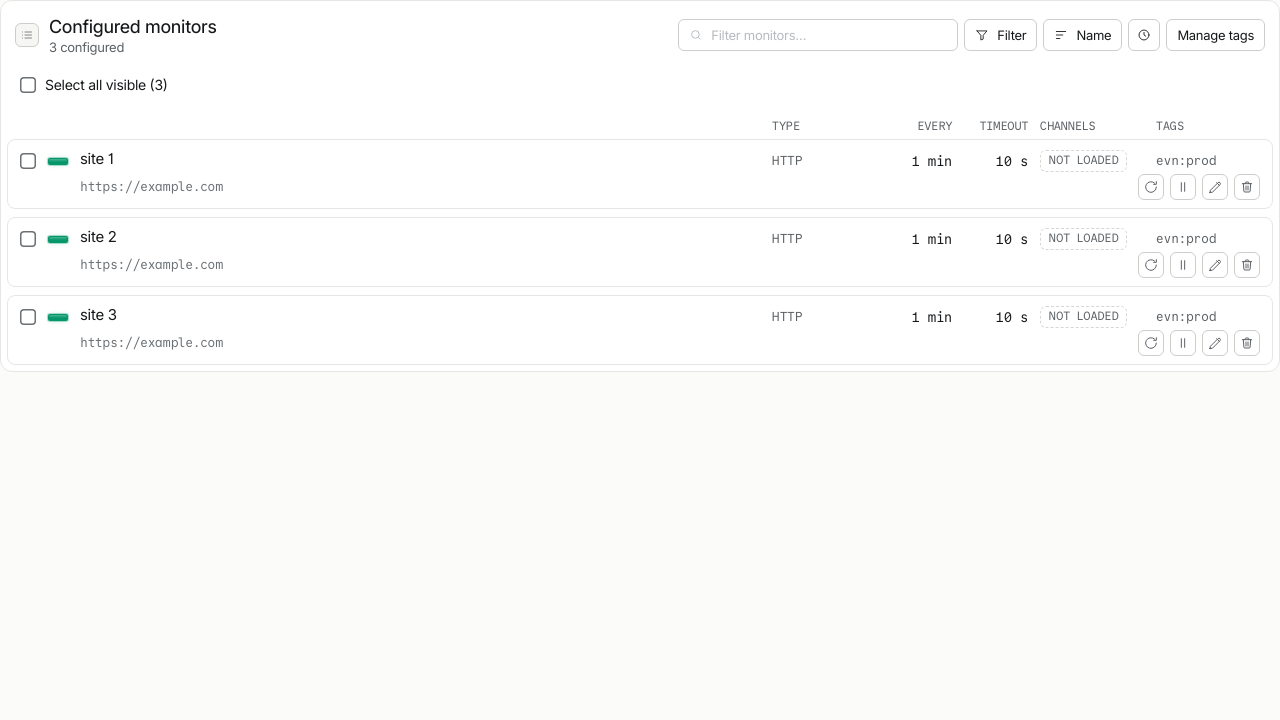
Test: selects multiple monitors, previews once and atomically applies with a paired validator
Click the checkbox named "Select site 1".
click(28, 161)  # box [15,148,41,174]
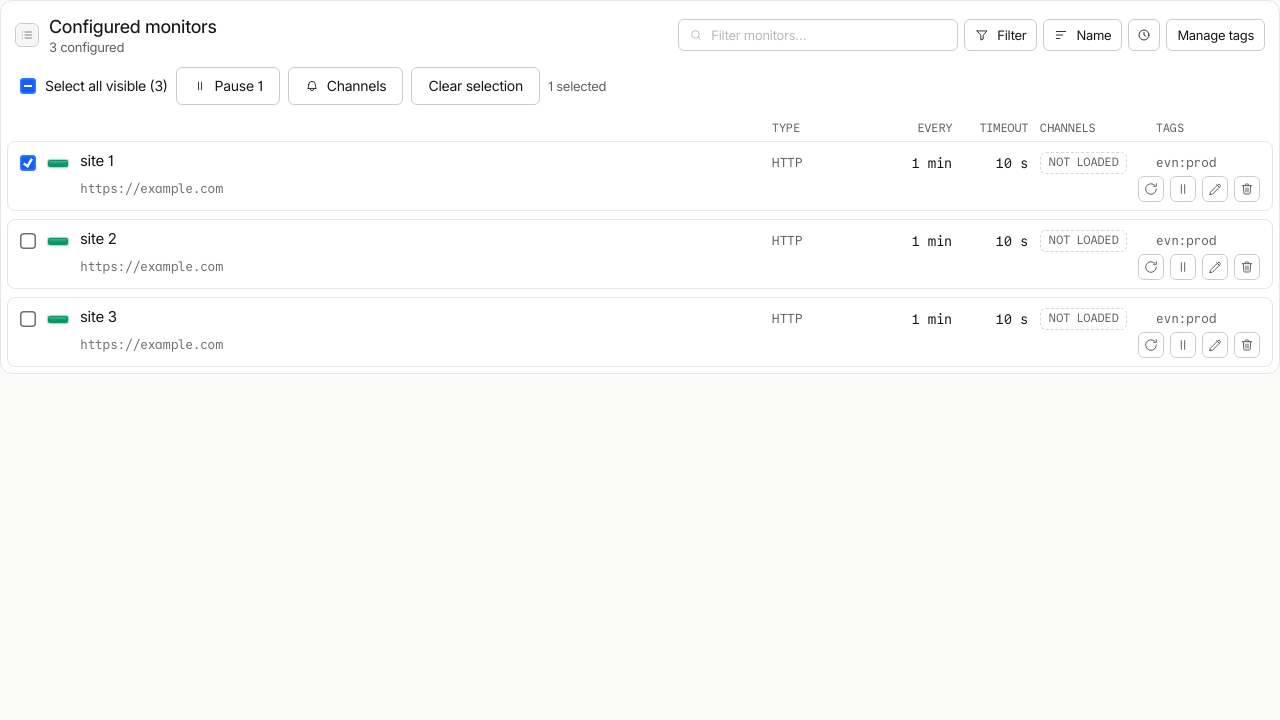
Click the checkbox named "Select site 2".
click(28, 241)  # box [15,228,41,254]
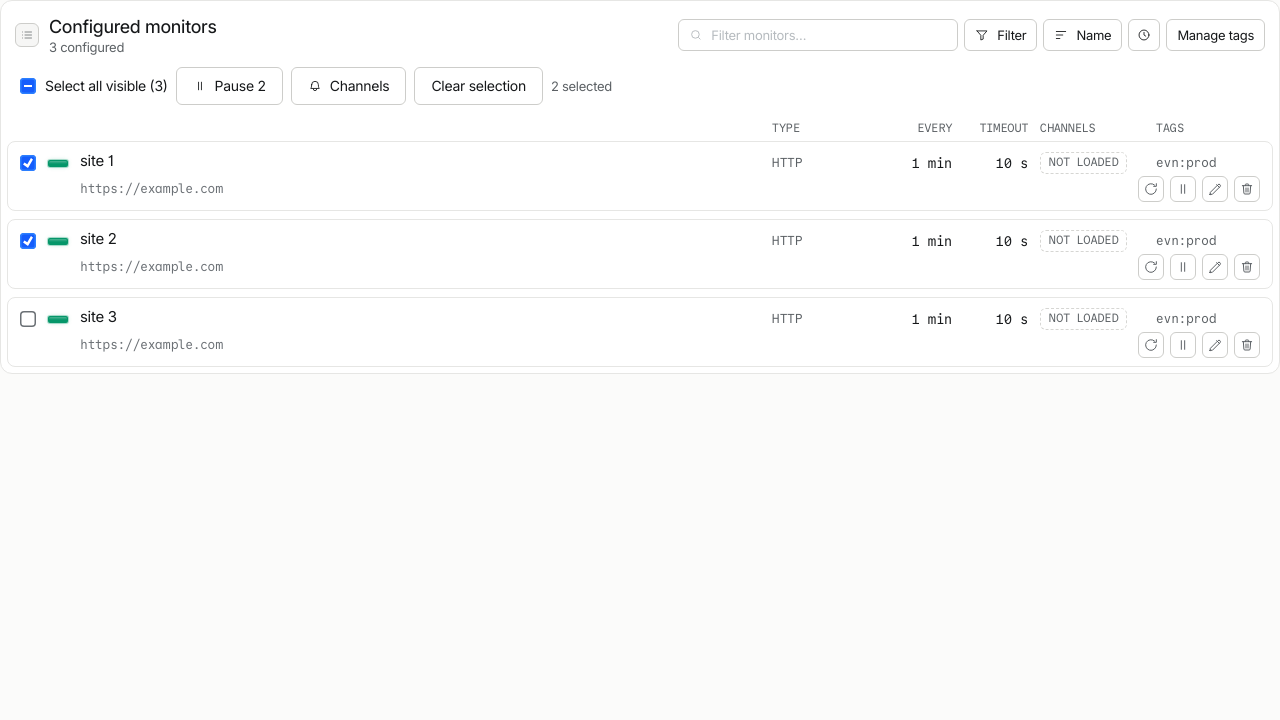
Expected: the text "2 selected" is shown, [551,78,612,94]
Type "site 3" into the search field labelled "Filter monitors".
click(829, 35); type("site 3")  # box [711,27,947,43]
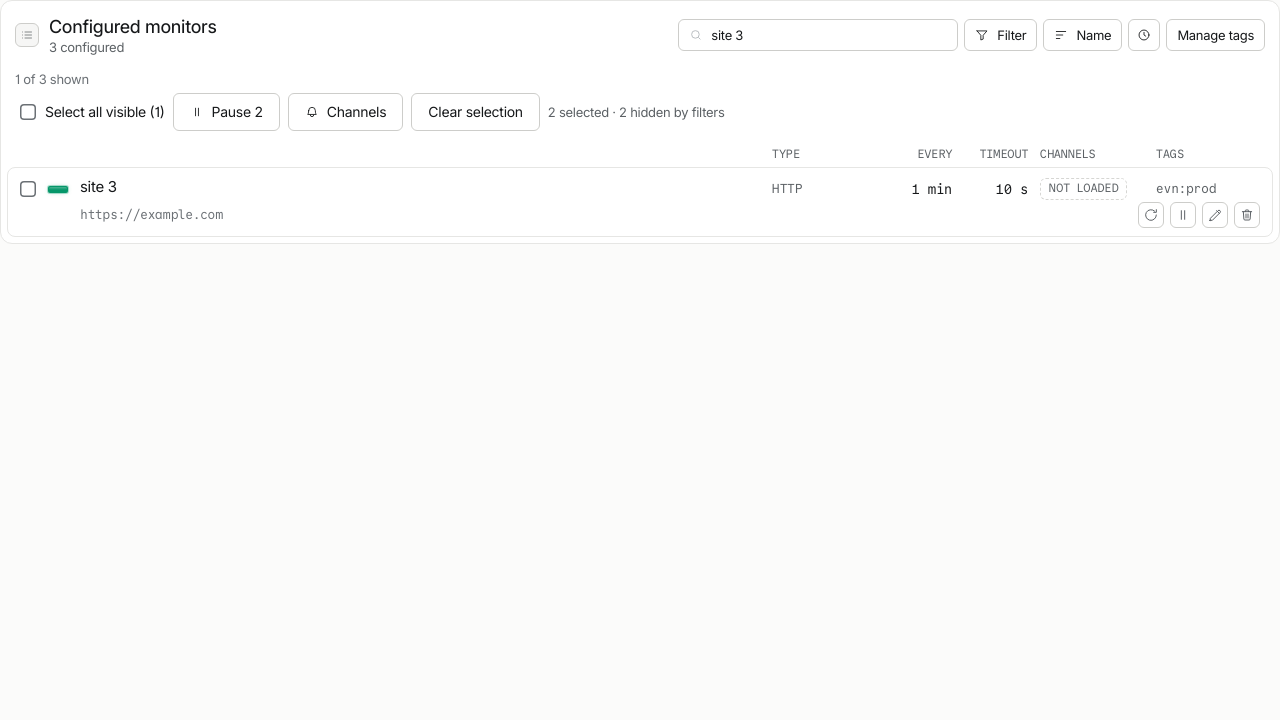
Expected: the text "2 selected · 2 hidden by filters" is shown, [548,104,724,120]
Click the button "Manage tags".
click(1216, 35)  # box [1166,19,1265,51]
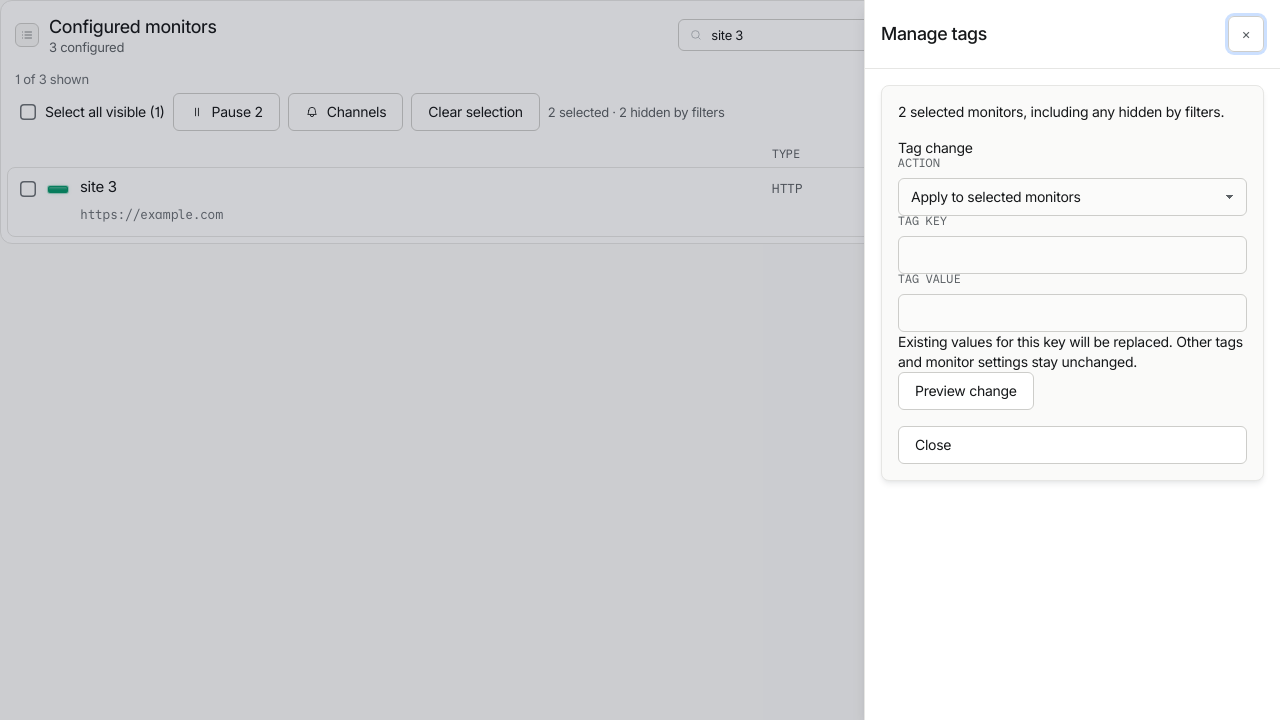
Type "env" into the field labelled "Tag key".
click(1072, 255); type("env")  # box [898,236,1247,274]
Type "prod" into the field labelled "Tag value".
click(1072, 313); type("prod")  # box [898,294,1247,332]
Click the button "Preview change".
click(966, 391)  # box [898,372,1034,410]
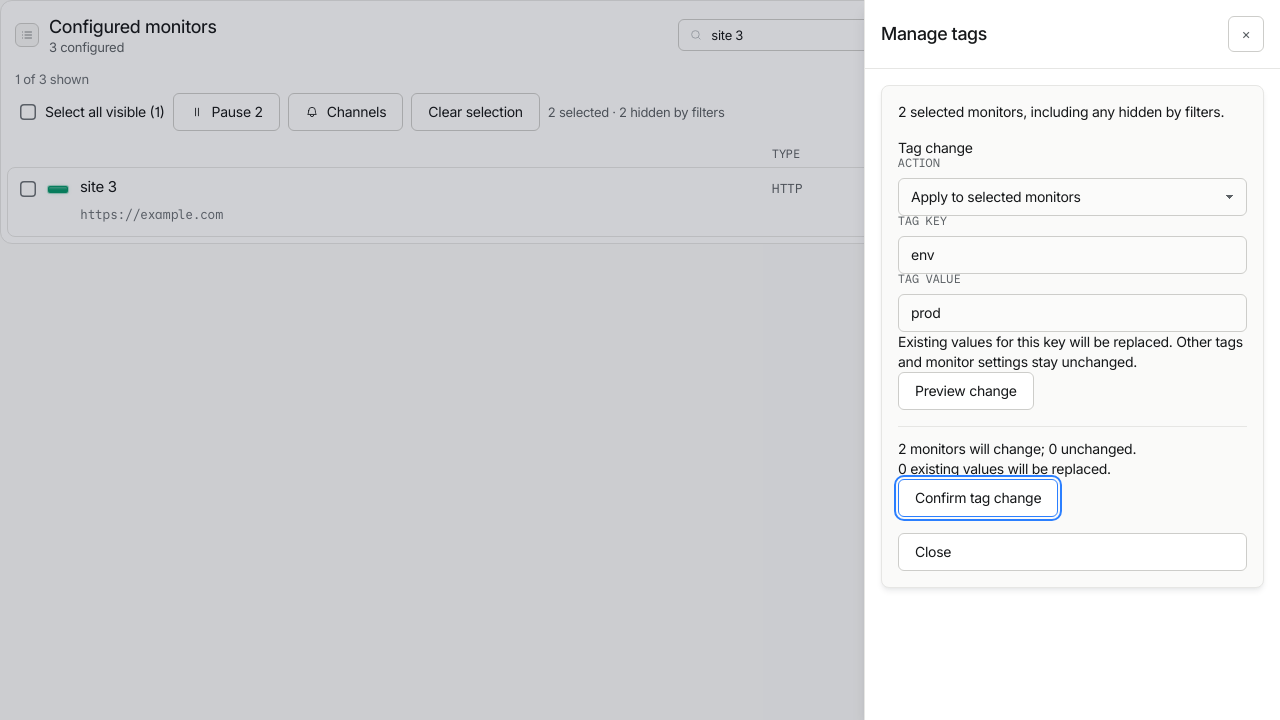
Expected: the text "Existing values for this key will be replaced" is shown, [898,333,1243,370]
Expected: the button "Confirm tag change" is shown
Click the button "Confirm tag change".
click(978, 498)  # box [898,479,1058,517]
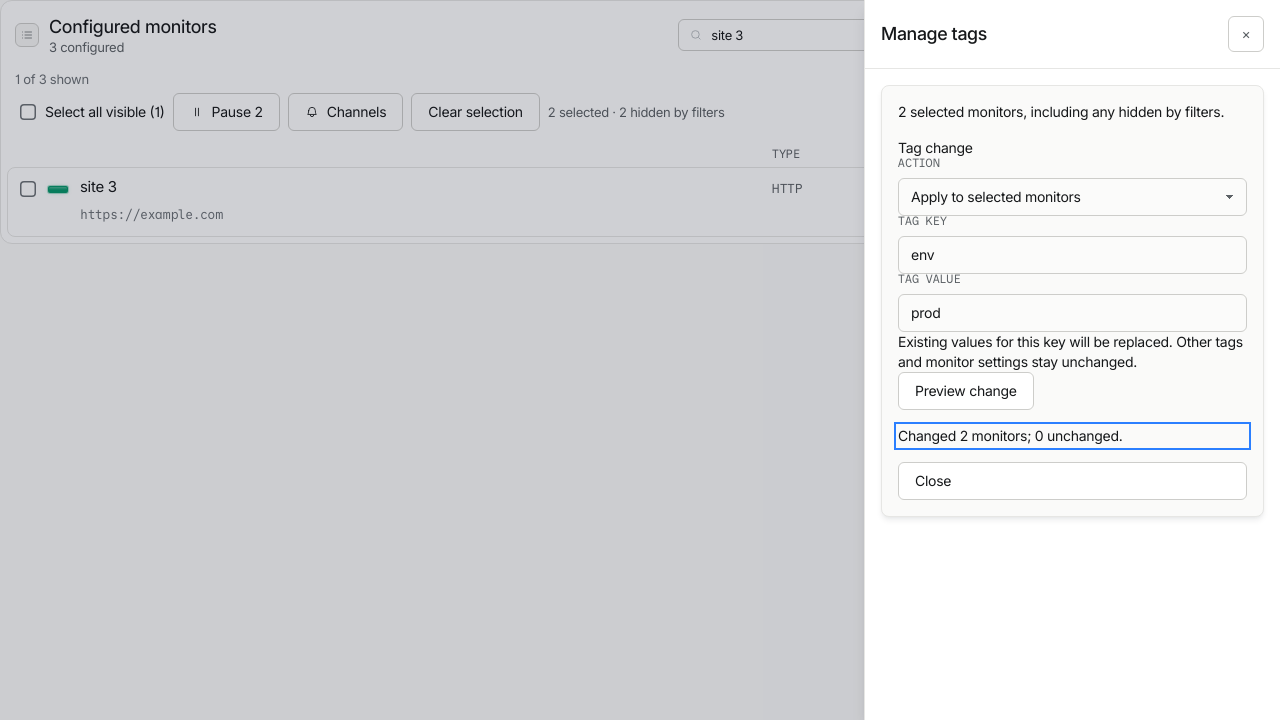
Expected: the text "Changed 2 monitors; 0 unchanged." is shown, [898,427,1122,444]
